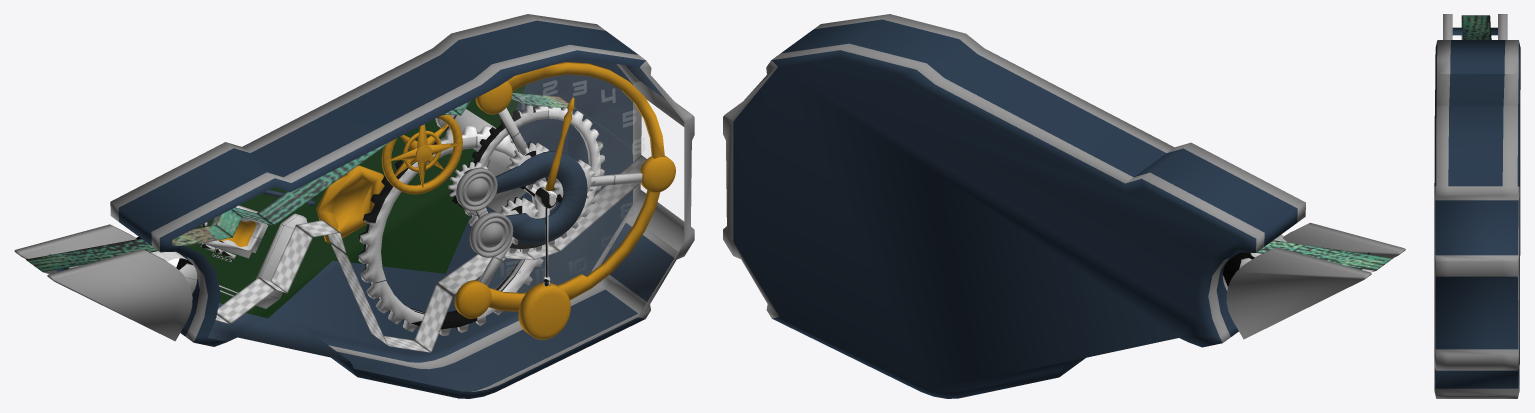
File: correction tape.glb
3 views of the same model, side by side, from view 1: azimuth 30°, elevation 25°; view 2: azimuth 150°, elevation 25°; view 3: azimuth 270°, elevation 25° (orthographic). The views are drawn at different scales.
Parts seen in each view (by area): view 1: body, tape, Plane, Cube.022, Cylinder.025, Cylinder.021, Cylinder.016, Cylinder.017, enginge, Cylinder.028, clock numbers, Cube.023 (+11 smaller); view 2: body, Cube.023, Cube.022, tape, Cylinder.039; view 3: body, tape, Cube.022, Cube.023, Cylinder.038.
Boxes of the visible parts, x1=… form: body: x1=110, y1=14, x2=694, y2=398; tape: x1=26, y1=92, x2=646, y2=352; Plane: x1=185, y1=84, x2=526, y2=318; Cube.022: x1=47, y1=249, x2=192, y2=341; Cylinder.025: x1=358, y1=125, x2=555, y2=335; Cylinder.021: x1=489, y1=62, x2=664, y2=311; Cylinder.016: x1=495, y1=151, x2=587, y2=244; Cylinder.017: x1=464, y1=105, x2=605, y2=253; enginge: x1=316, y1=165, x2=384, y2=243; Cylinder.028: x1=518, y1=282, x2=570, y2=339; clock numbers: x1=498, y1=80, x2=645, y2=283; Cube.023: x1=14, y1=224, x2=136, y2=268; body: x1=723, y1=14, x2=1305, y2=398; Cube.023: x1=1226, y1=247, x2=1371, y2=339; Cube.022: x1=1282, y1=222, x2=1405, y2=258; tape: x1=1256, y1=240, x2=1392, y2=272; Cylinder.039: x1=1222, y1=234, x2=1286, y2=290; body: x1=1434, y1=40, x2=1520, y2=398; tape: x1=1461, y1=15, x2=1491, y2=39; Cube.022: x1=1443, y1=14, x2=1452, y2=39; Cube.023: x1=1498, y1=14, x2=1507, y2=39; Cylinder.038: x1=1452, y1=27, x2=1497, y2=35.
Bounding box in the file's own units: 7.24 × 3.51 × 1.03.
8 materials, 3 textured.
